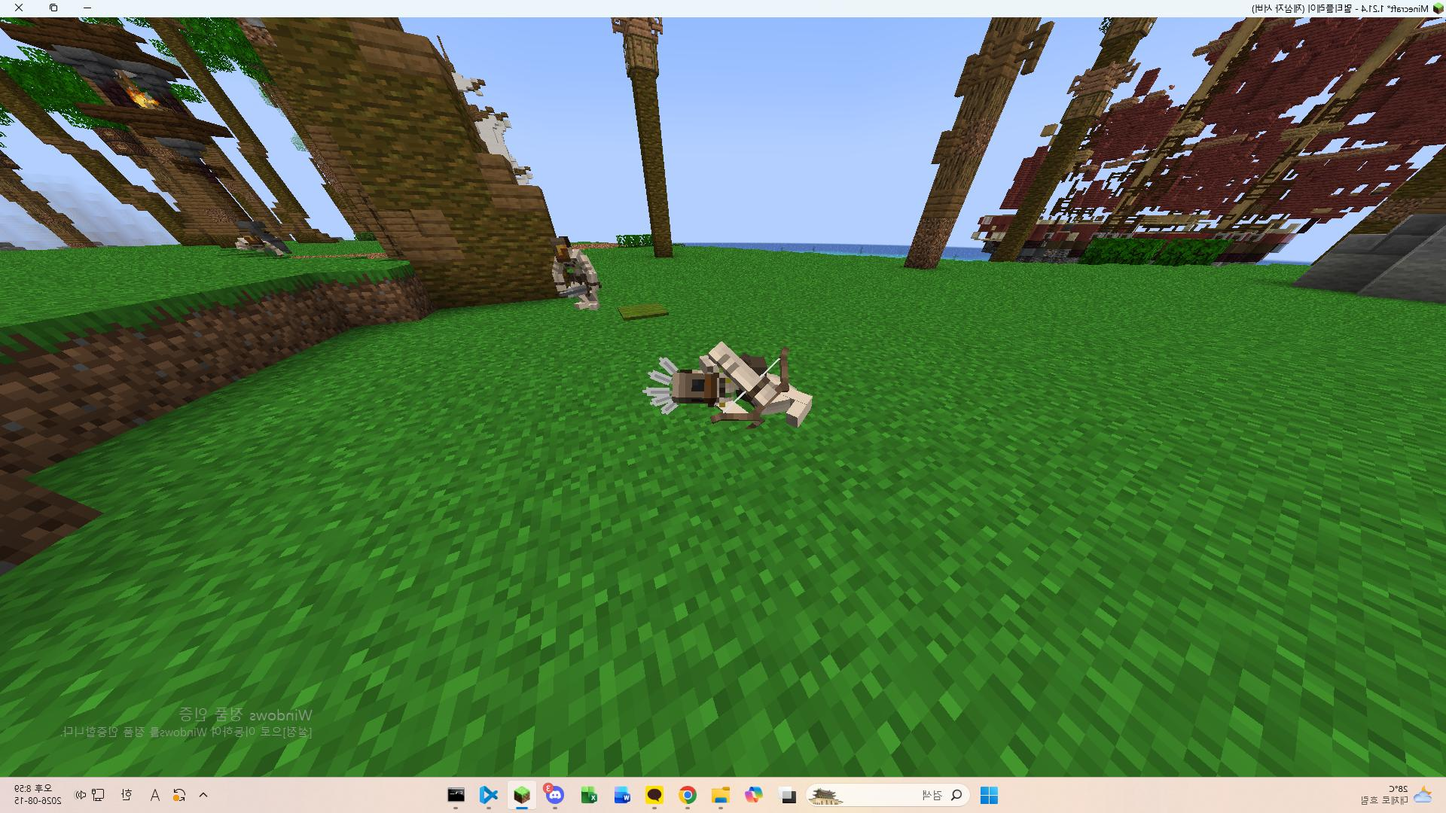bow_indian: (593, 323, 841, 448)
